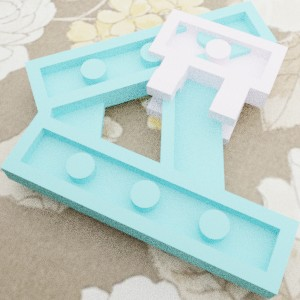lego: (0, 0, 300, 299), (146, 8, 288, 145)
